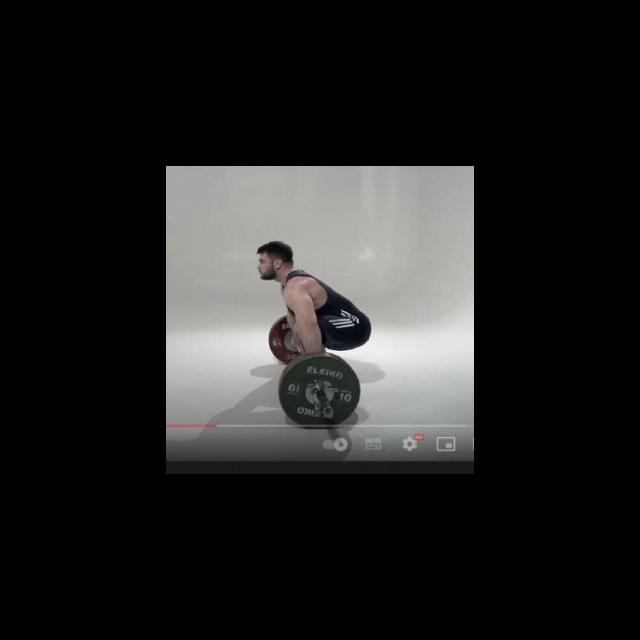barbell: (276, 353, 363, 430)
